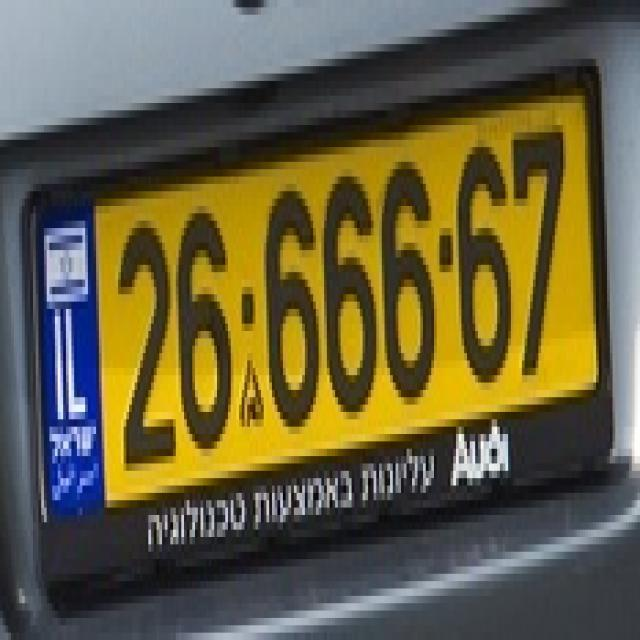licenseplate: (18, 75, 627, 514)
